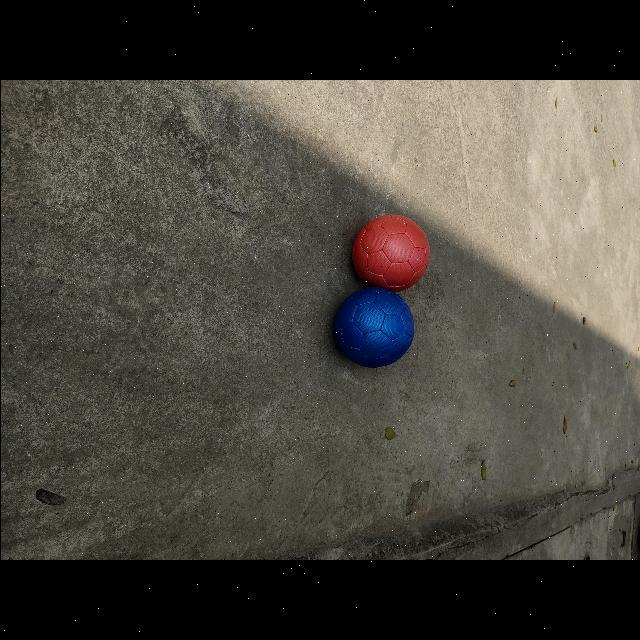B: (329, 287, 413, 368)
R: (347, 214, 428, 293)
